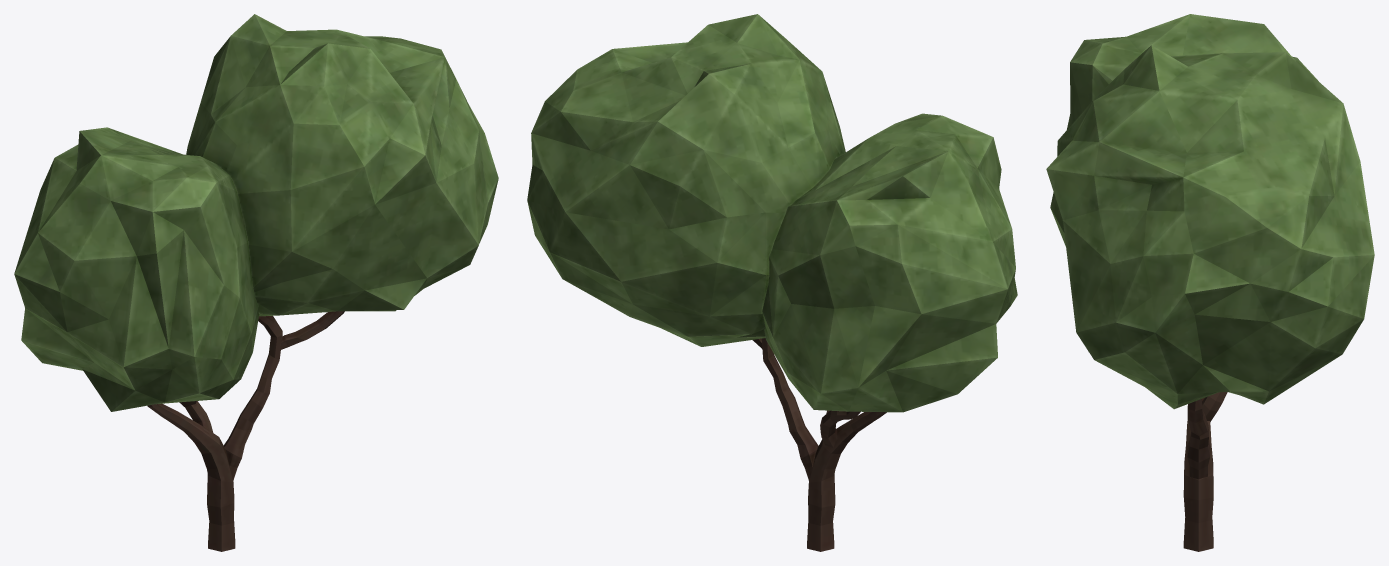
File: olive.glb
3 renders of one model, left to right at view 1: azimuth 30°, elevation 25°; view 2: azimuth 150°, elevation 25°; view 3: azimuth 270°, elevation 25°, orthographic. The views are drawn at different scales.
Parts seen in each view (by area): view 1: OliveTree_mesh; view 2: OliveTree_mesh; view 3: OliveTree_mesh.
Part boxes in pixels (<box>): OliveTree_mesh: <box>14,14,498,551</box>; OliveTree_mesh: <box>527,14,1017,551</box>; OliveTree_mesh: <box>1046,14,1374,551</box>.
Bounding box in the file's own units: 11.24 × 11.73 × 6.41.
1 material, 1 textured.
